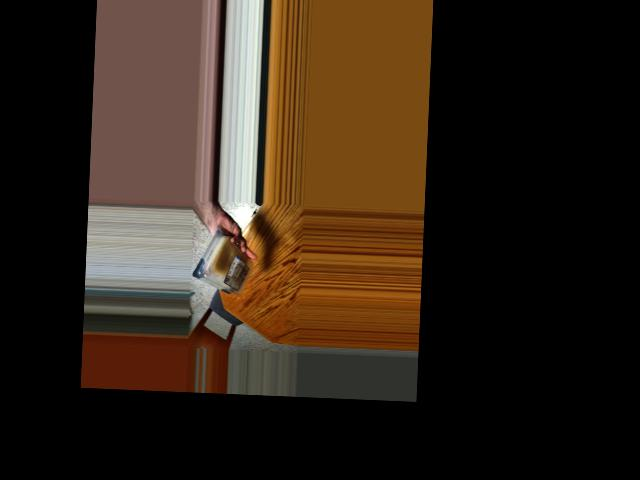cheese: (196, 227, 244, 296)
